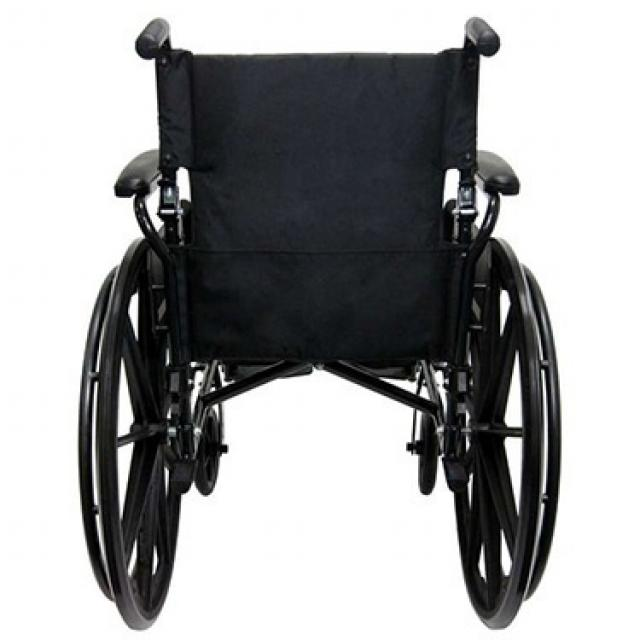wheelchair: (70, 5, 580, 640)
